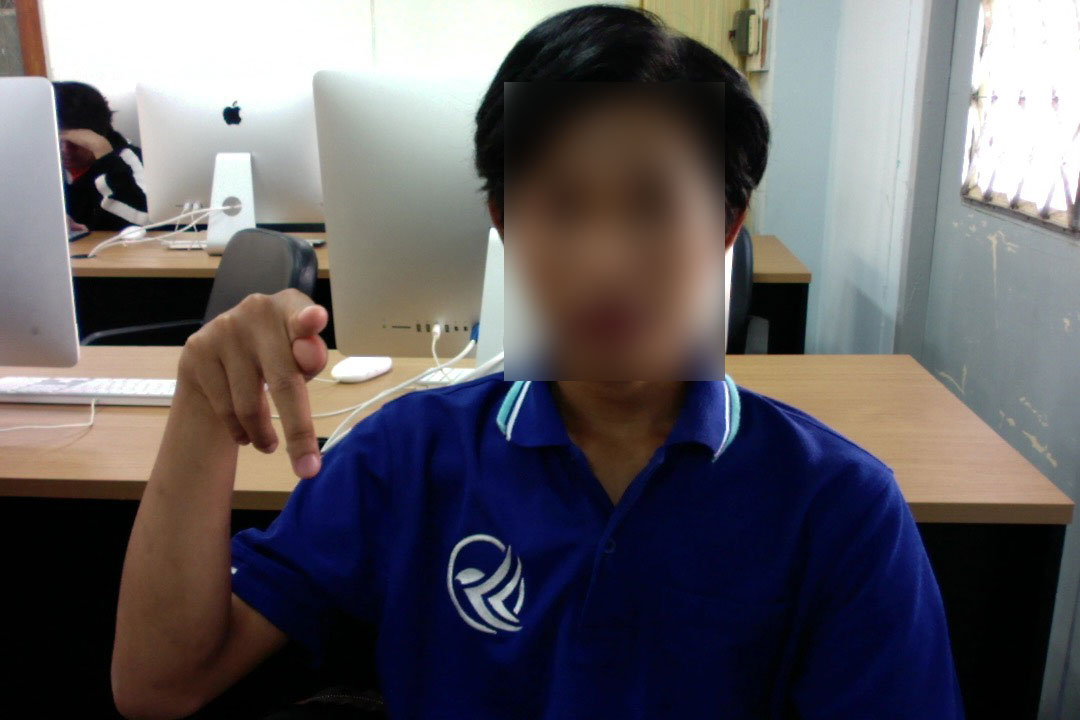por: (173, 268, 338, 485)
